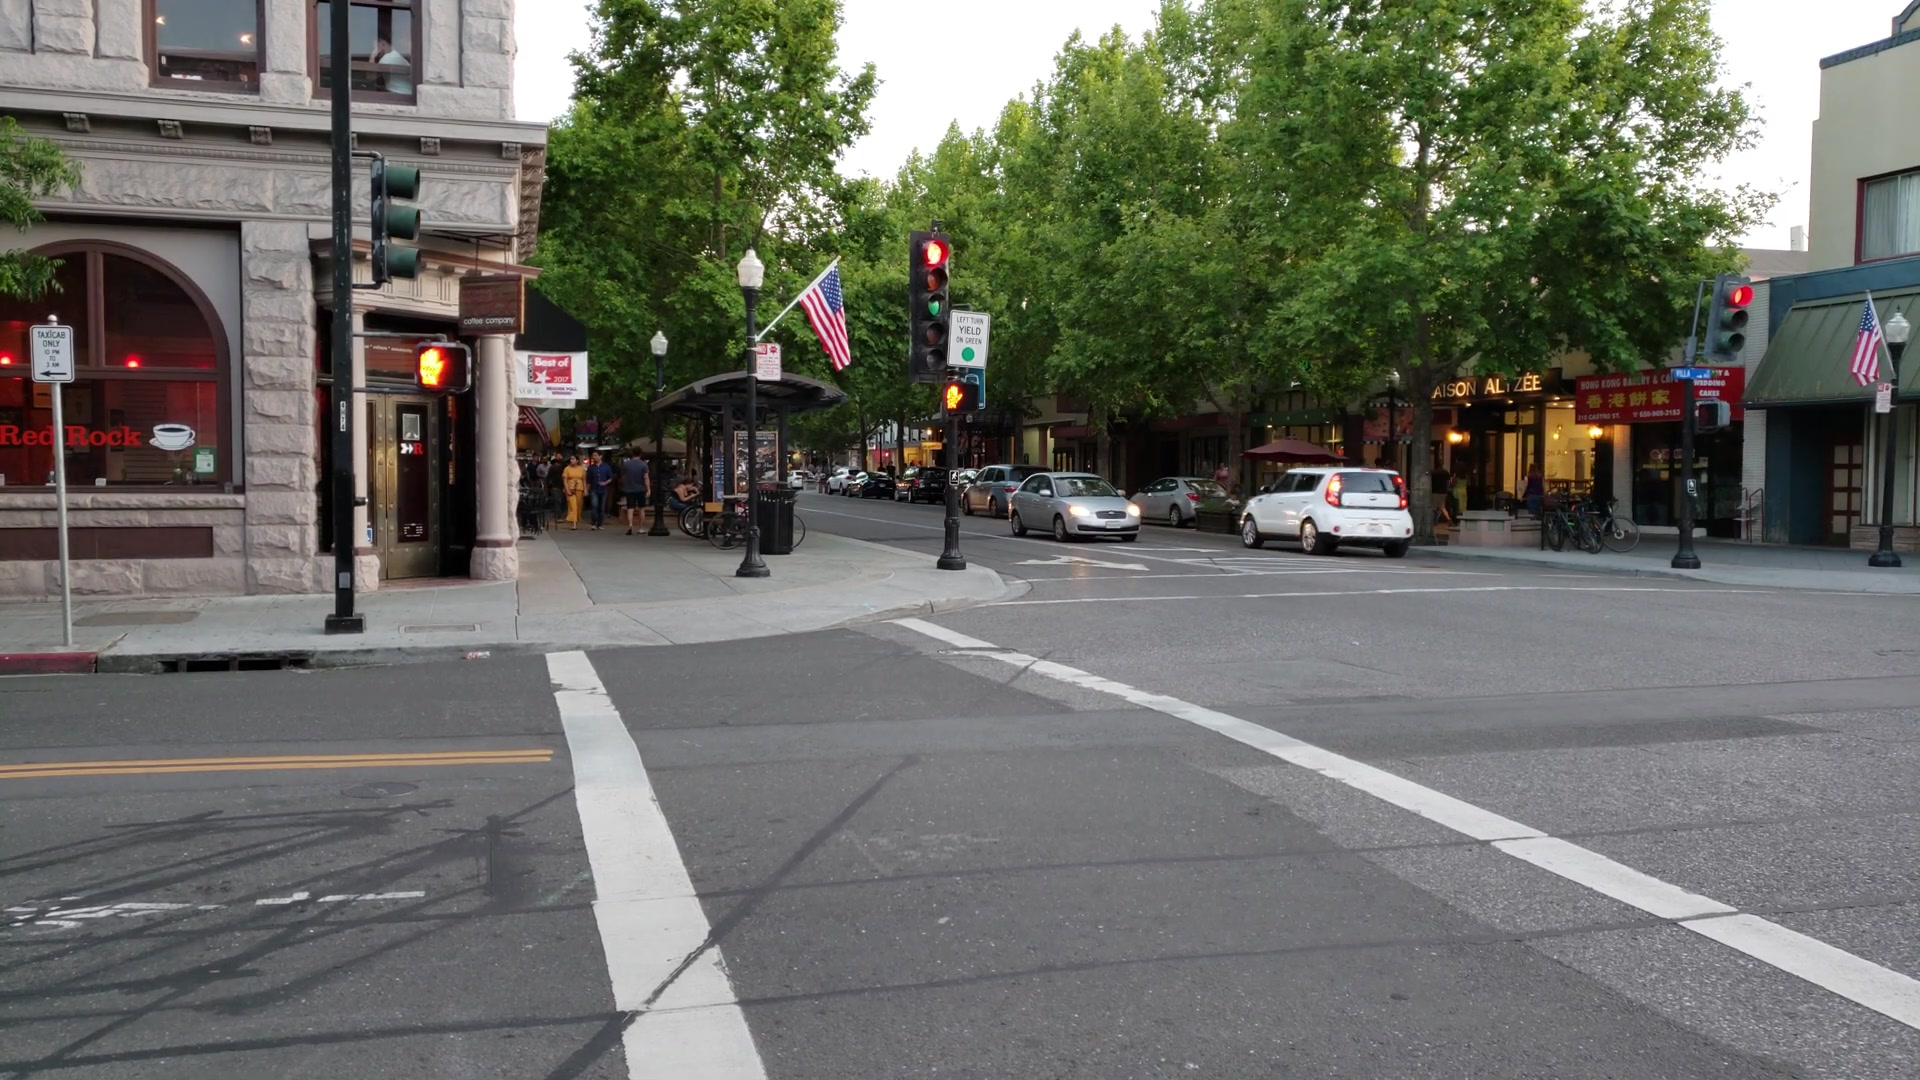vehicle: (1238, 469, 1414, 556), (1011, 471, 1141, 542)
